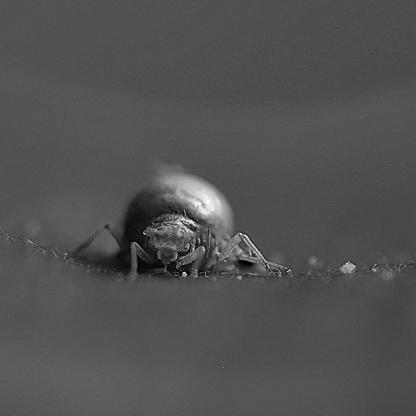aphid: (82, 158, 285, 282)
